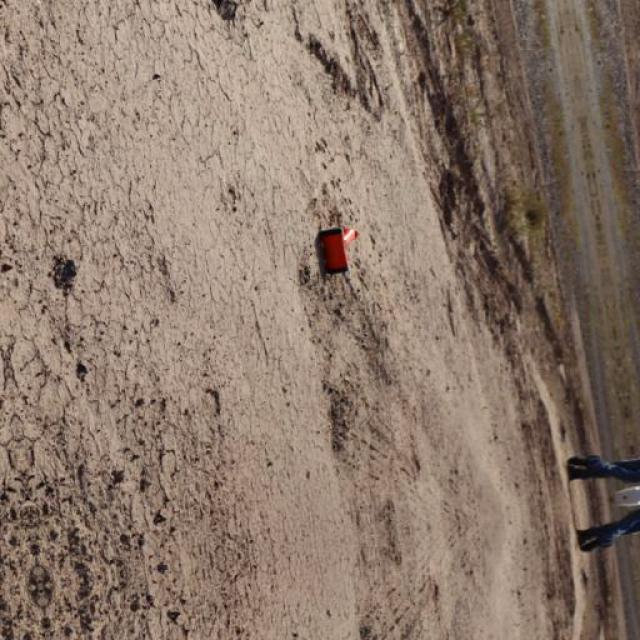mallet: (315, 225, 357, 274)
